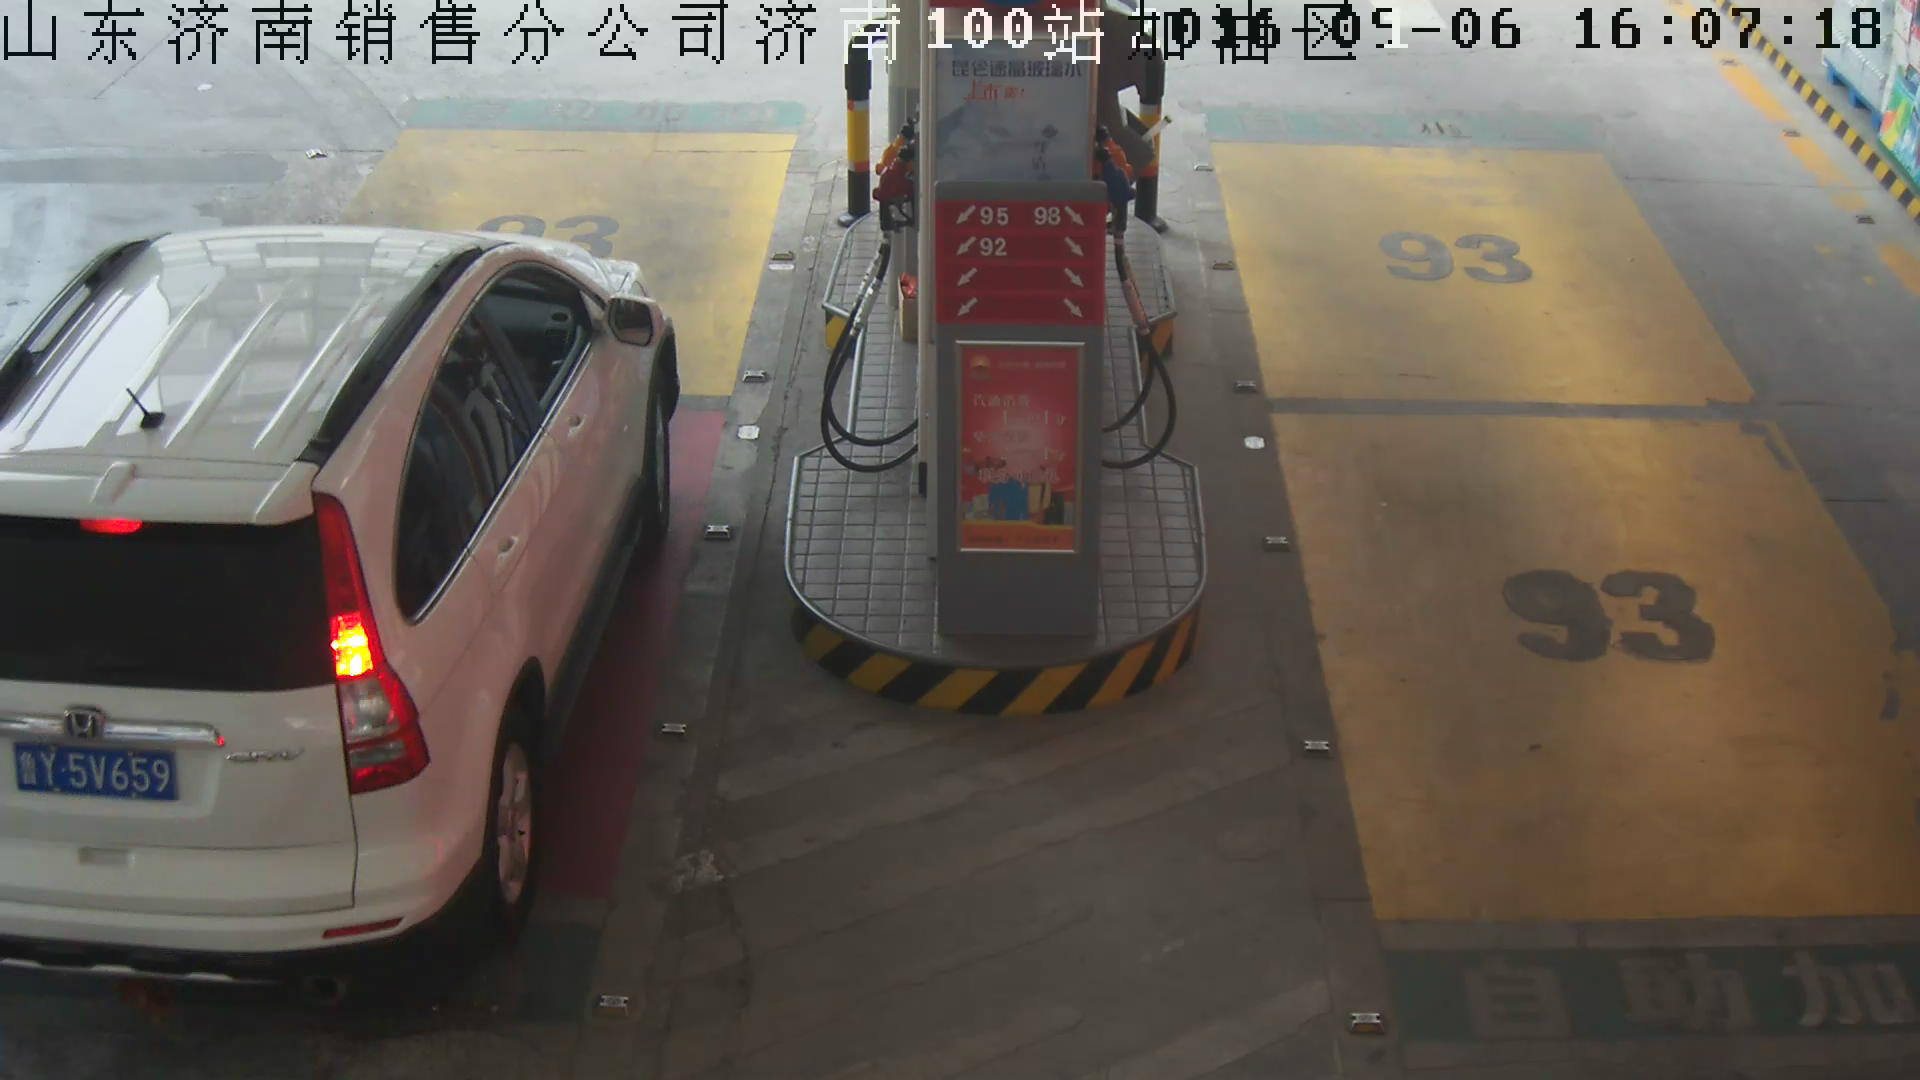blue: (12, 742, 179, 804)
